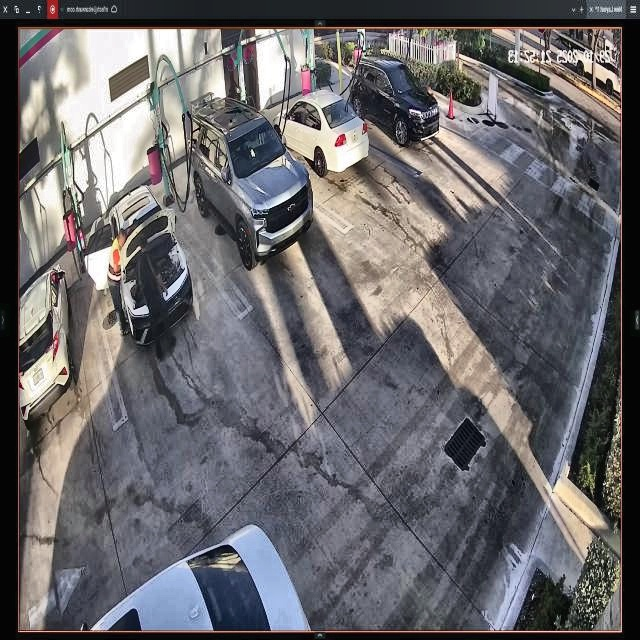Car: (193, 96, 312, 265), (85, 185, 191, 342), (349, 62, 440, 143), (274, 90, 368, 168)
